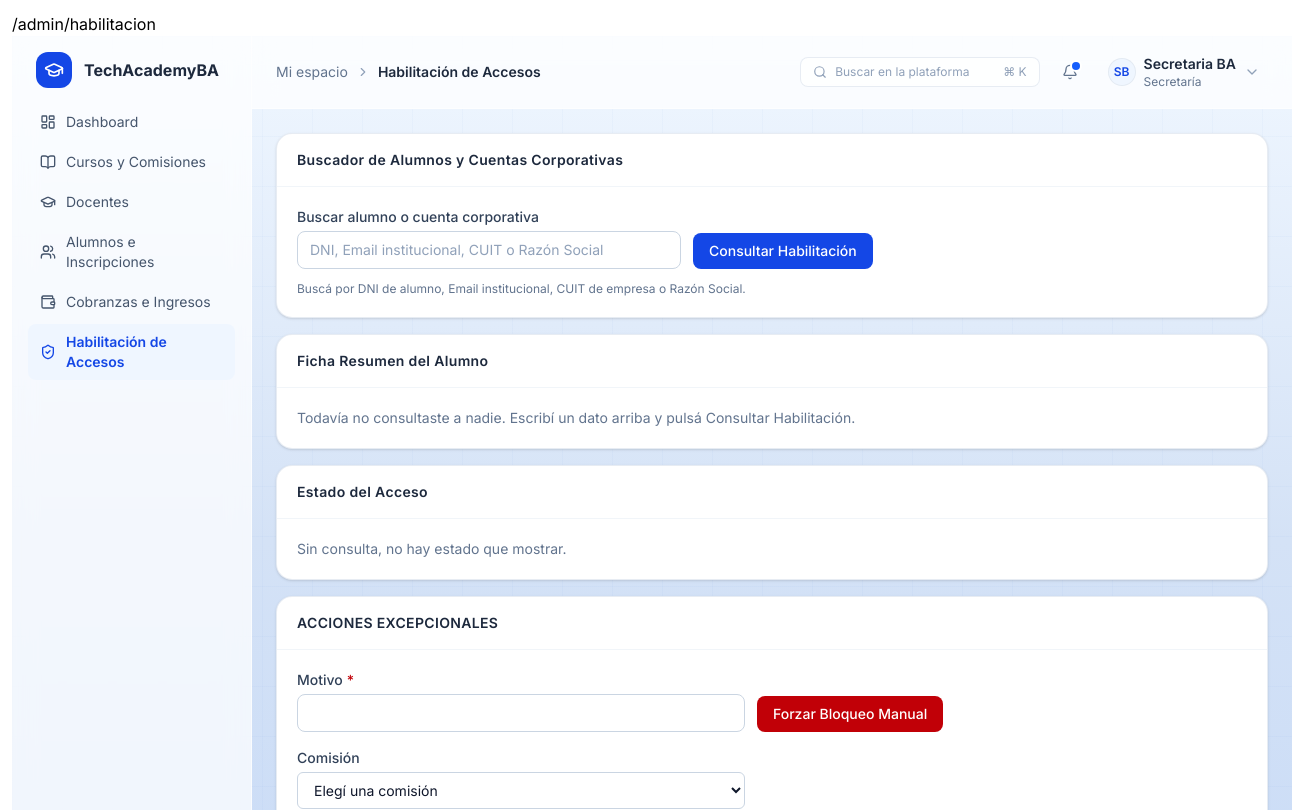
it: consulta de un alumno › busca por email institucional
Check: the heading "Buscador de Alumnos y Cuentas Corporativas" is shown, box [297, 150, 623, 170]
Type "valerossi@gmail.com" into the field labelled "Buscar alumno o cuenta corporativa".
click(489, 250); type("valerossi@gmail.com")  # box [297, 231, 681, 269]
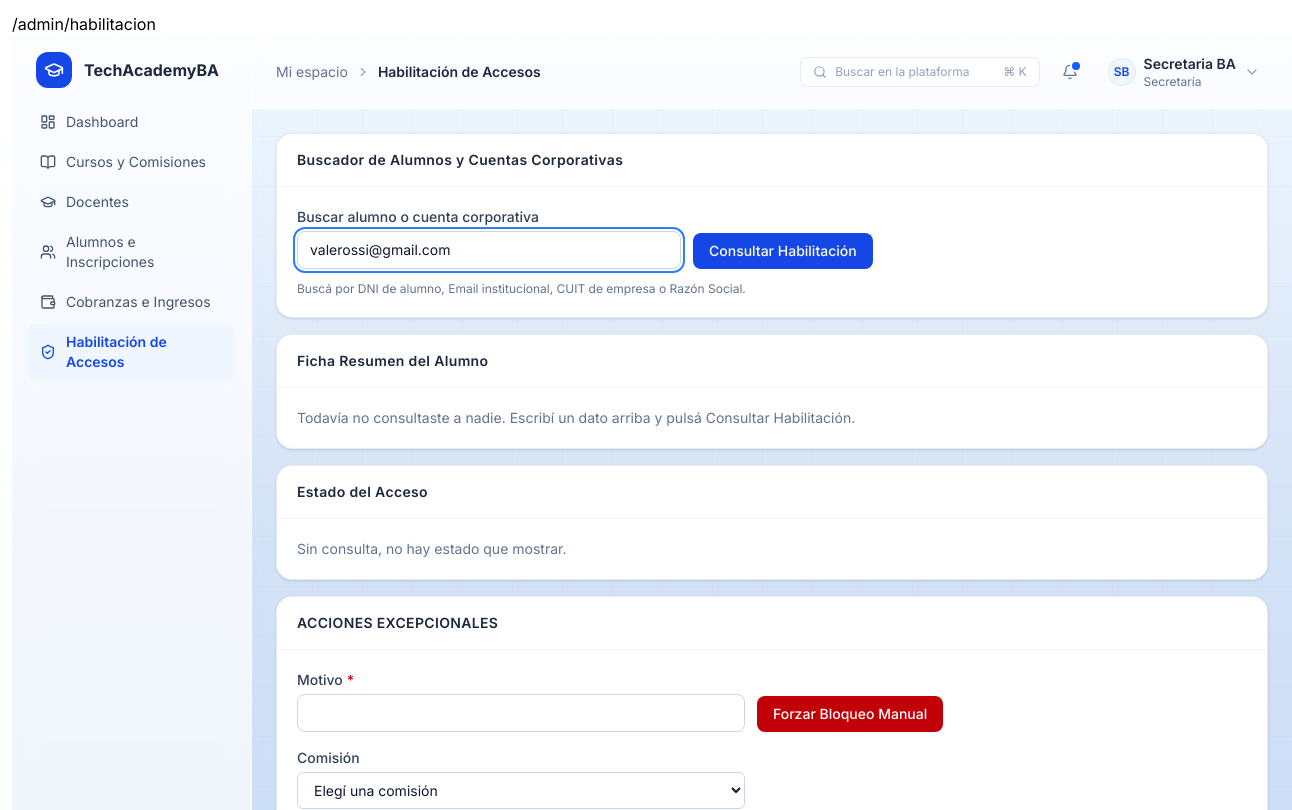
Click the button "Consultar Habilitación".
click(783, 251)  # box [693, 233, 873, 269]
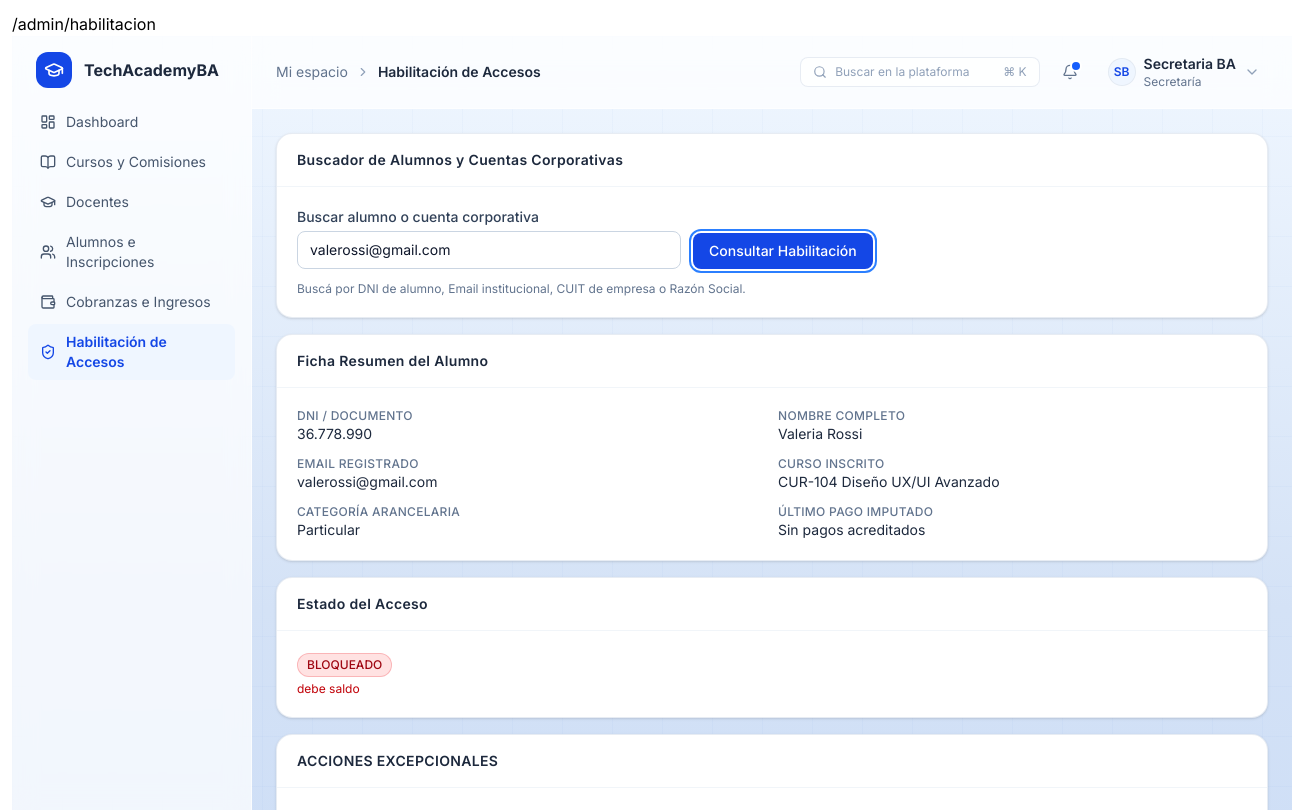
Check: the text "Valeria Rossi" is shown, box [778, 425, 862, 442]
Check: the text "debe saldo" is shown, box [297, 681, 360, 697]
